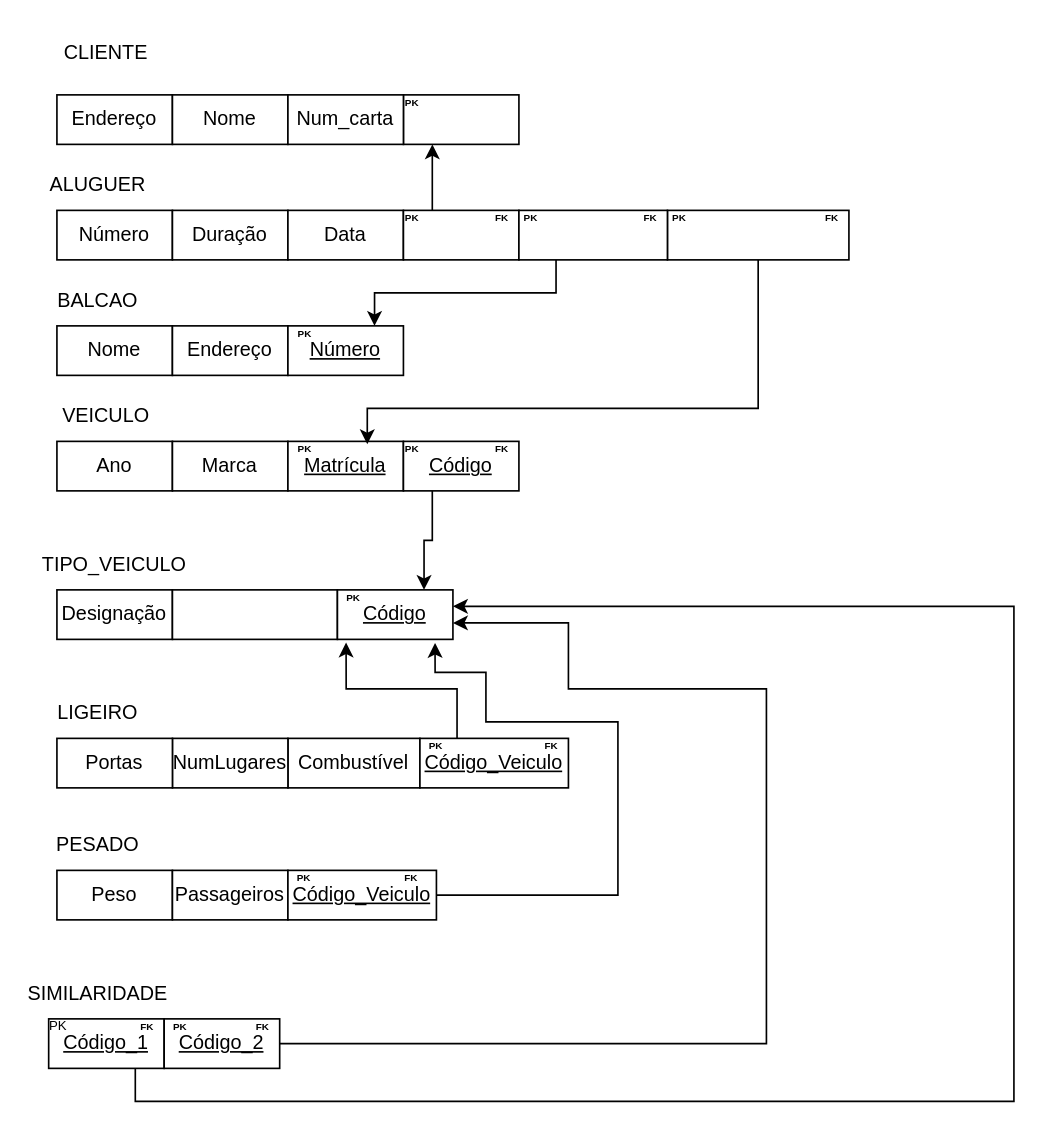
This 1056x1143 diagram has some shape labels left out. The shapes that lost their labels are listed below. From the top down, each one's box as (x1, y1, x2, y2) in pixels, then its label:
(402, 93, 519, 144): NIF
(402, 209, 519, 260): Cliente_NIF
(517, 209, 667, 260): Balcao_numero
(666, 209, 849, 260): Veiculo_matricula
(171, 588, 337, 639): Arcondicionado
